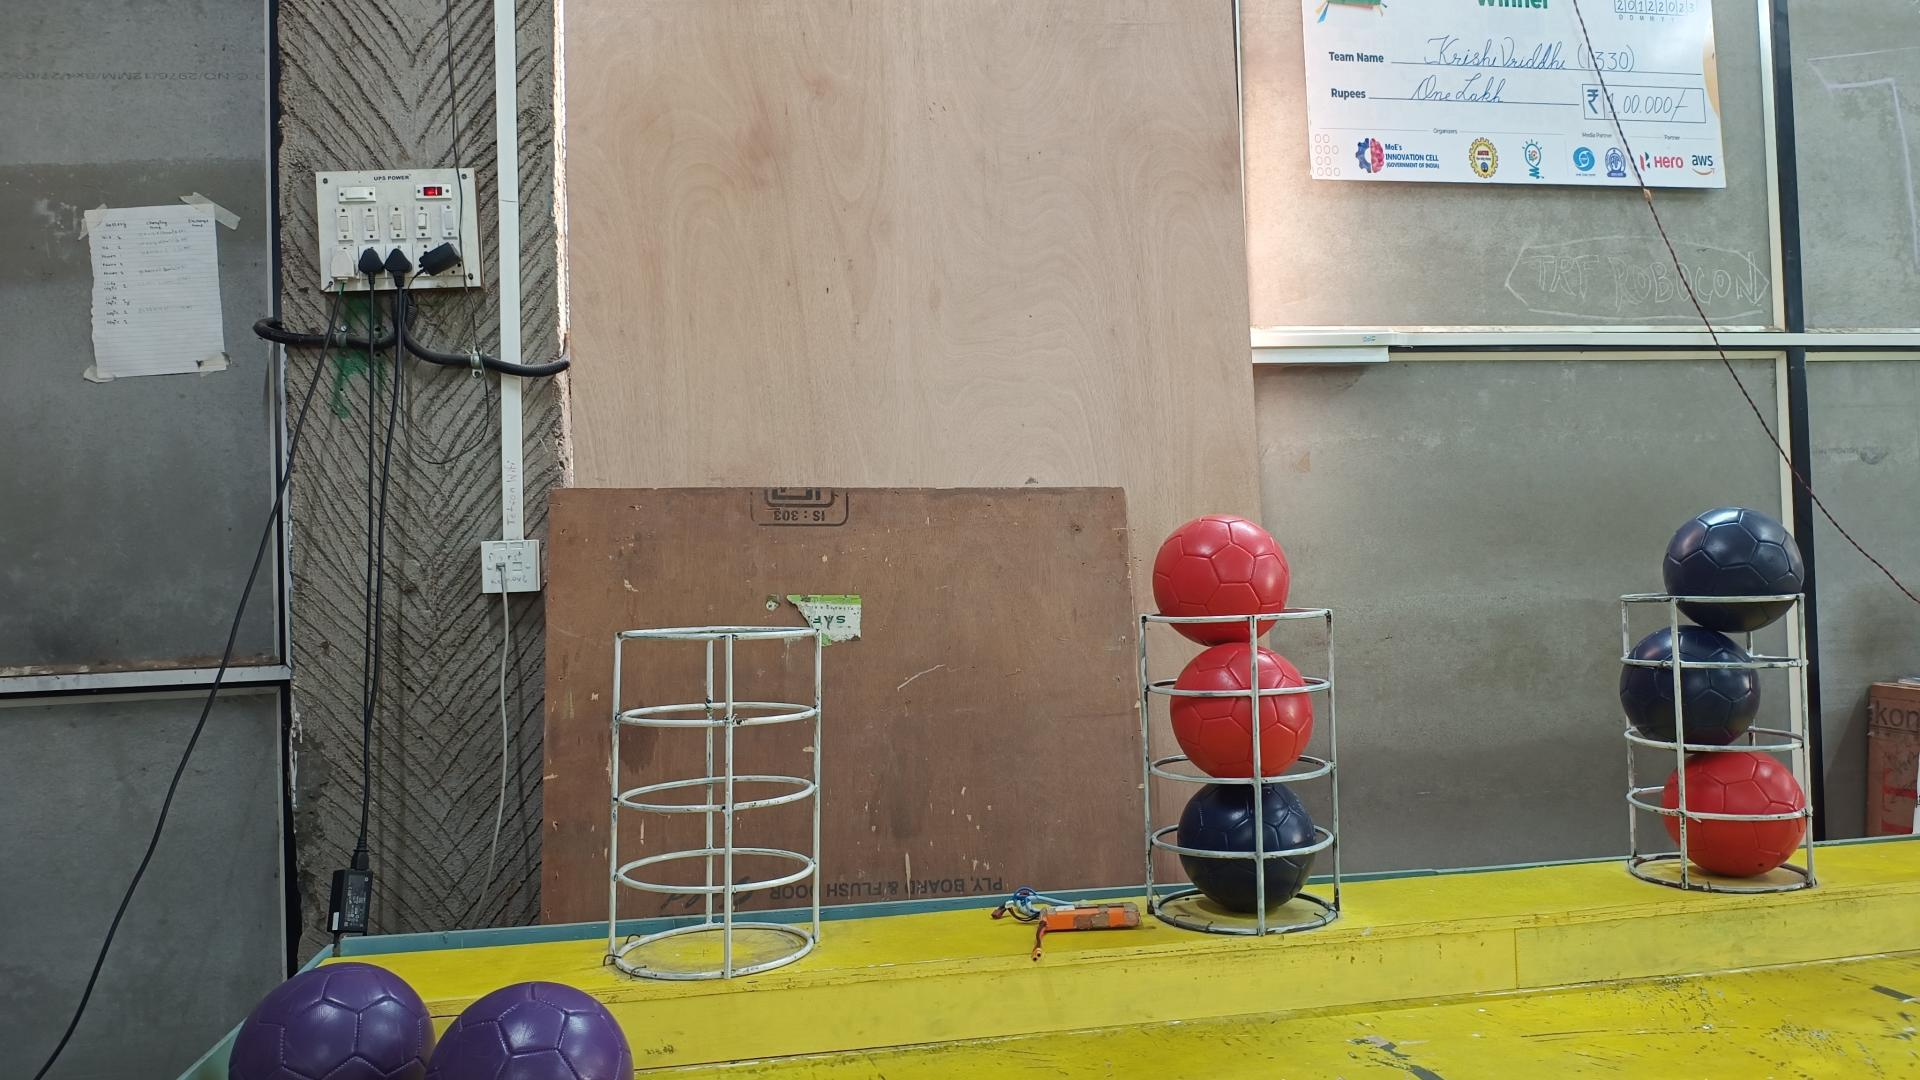dhoka: (1178, 783, 1320, 915), (1662, 506, 1804, 634), (1619, 622, 1763, 746)
laale: (1170, 641, 1312, 781), (1662, 750, 1808, 877), (1151, 514, 1290, 645)
